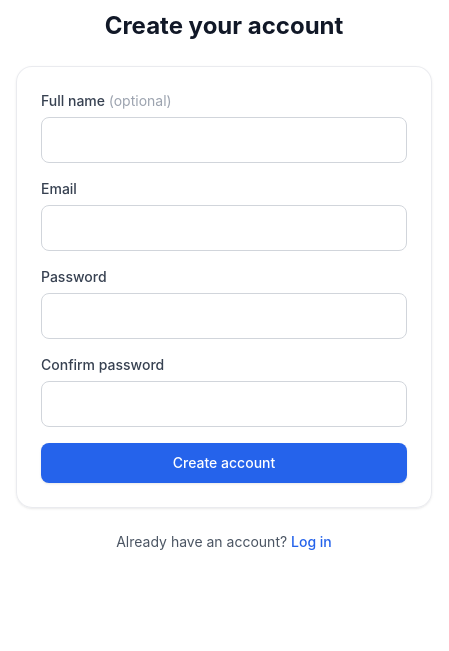
Register password validation › marks every requirement as met once a password satisfies them all
Type "Password1" into the password field labelled "Password". click: (224, 316)
box: [41,293,407,339]
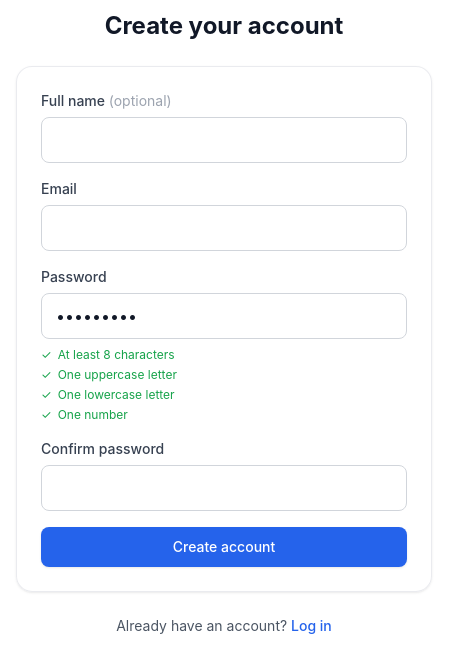
Expected: the text "✓" is shown 4 times, [41,347,52,363]; [41,367,52,383]; [41,387,52,403]; [41,407,52,423]
